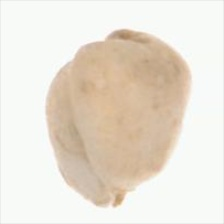L3: (93, 178, 156, 208)
L4: (45, 28, 192, 209)
